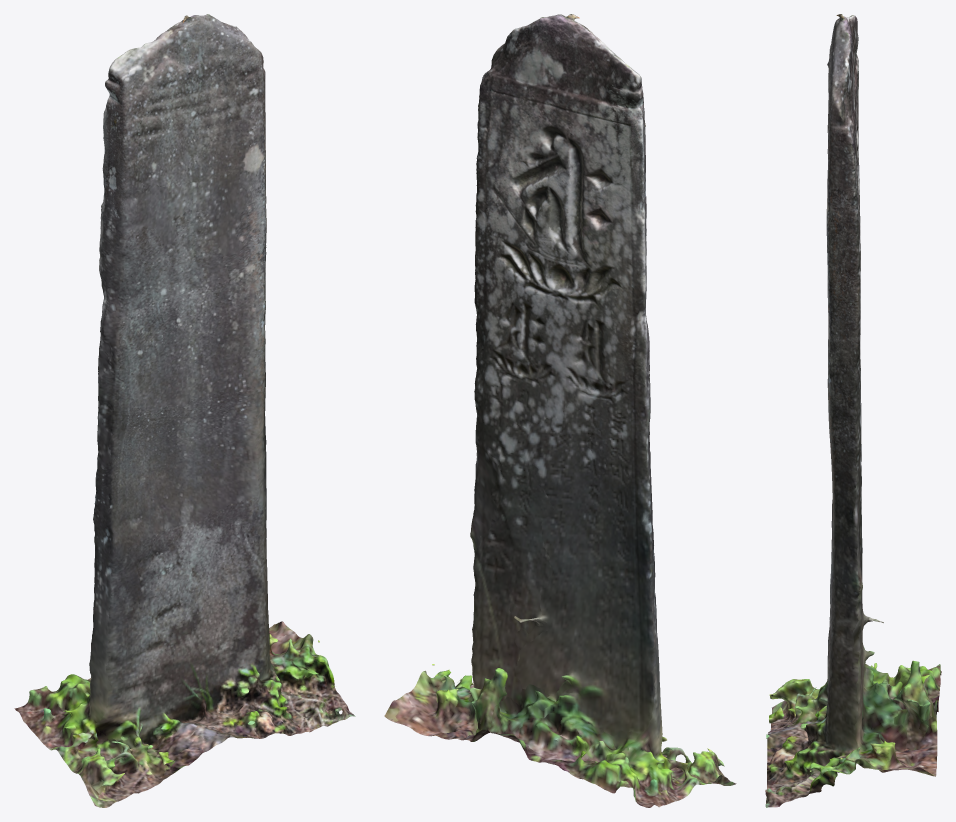
Rendered from stone_monument_at_jiko-ji_temple.glb.
3 renders of one model, left to right at view 1: azimuth 30°, elevation 25°; view 2: azimuth 150°, elevation 25°; view 3: azimuth 270°, elevation 25°, orthographic. The views are drawn at different scales.
Visible parts, largest first — view 1: Model; view 2: Model; view 3: Model.
Boxes of the visible parts, x1,y1,x2,y2 form: Model: (14,14,355,807); Model: (384,14,736,807); Model: (765,14,941,807).
Size of the model in its own units: 0.5794 by 1.58 by 0.3306.
Materials: 1 (1 with a texture image).
